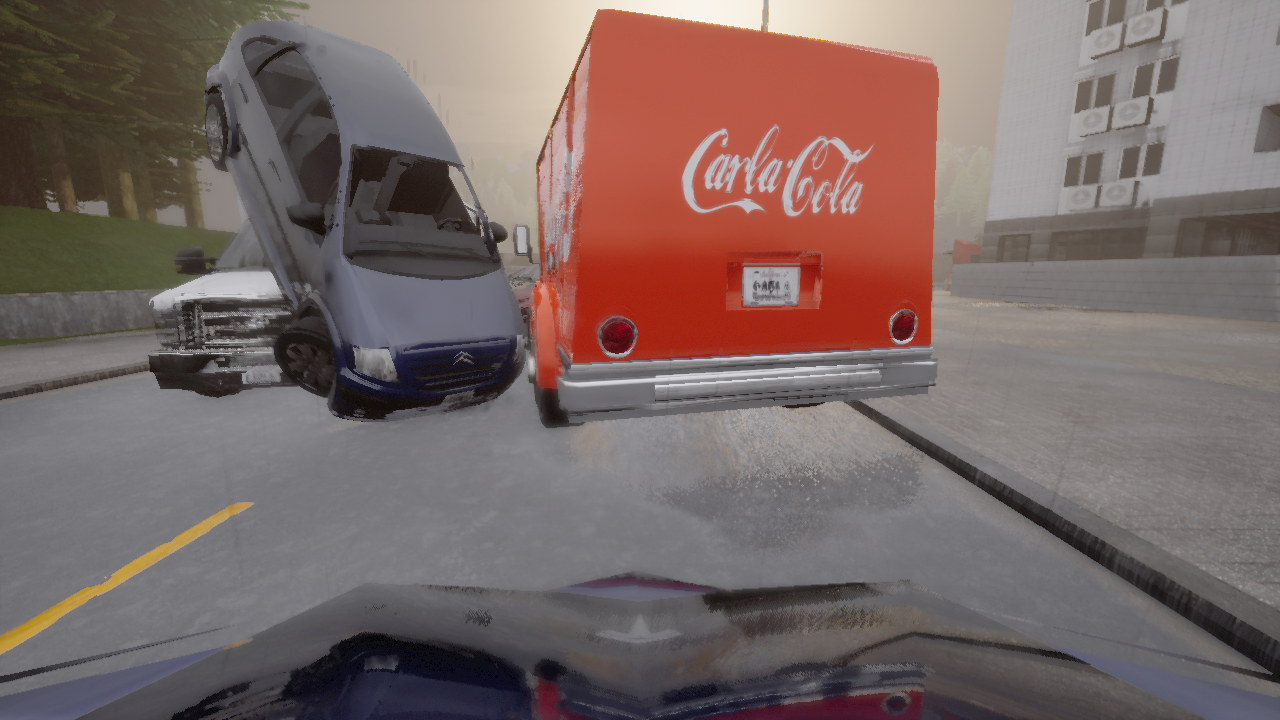cyclist: (0, 569, 1279, 719), (514, 9, 940, 428), (203, 21, 526, 422), (146, 178, 298, 397), (507, 263, 540, 348), (503, 264, 530, 276)
